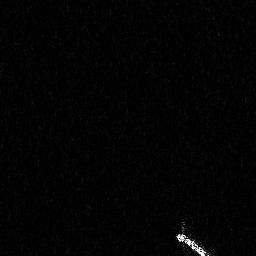ship: (171, 217, 220, 256)
